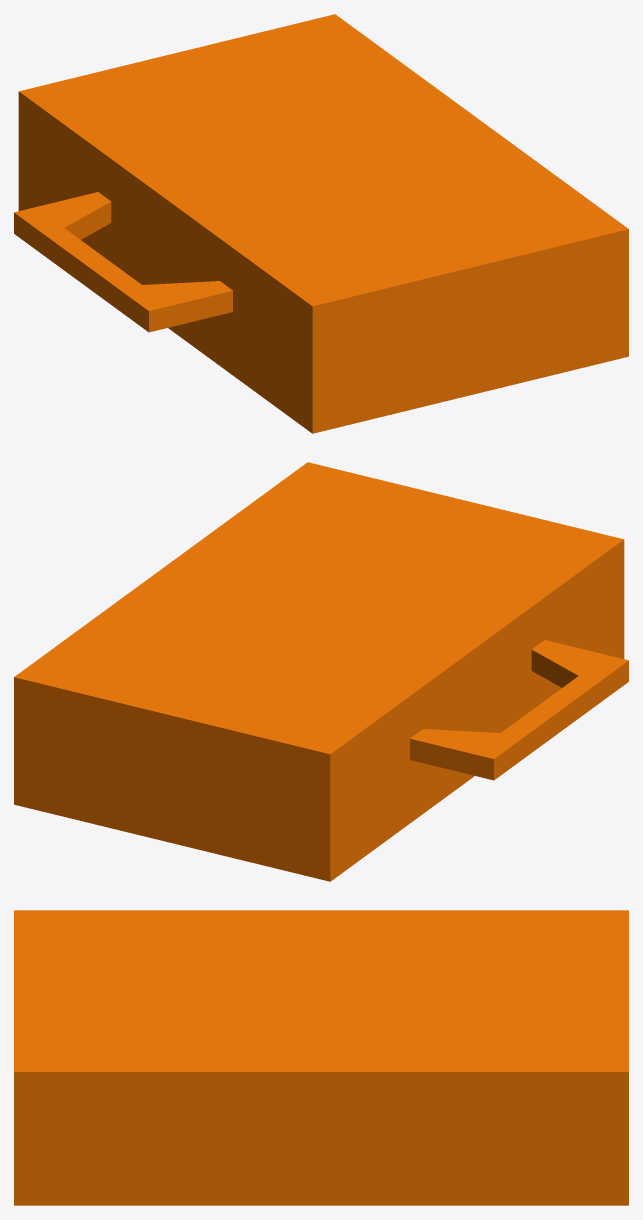
The model's file is LuggageD.fbx.
The picture shows the model from 3 angles, top to bottom: view 1: azimuth 30°, elevation 25°; view 2: azimuth 150°, elevation 25°; view 3: azimuth 270°, elevation 25°; orthographic projection. The views are drawn at different scales.
Visible parts, largest first — view 1: LuggageDTop, LuggageD; view 2: LuggageDTop, LuggageD; view 3: LuggageDTop, LuggageD.
Part boxes in pixels (x1,y1,x2,y2): LuggageDTop: (14,14,628,369); LuggageD: (18,155,628,433); LuggageDTop: (14,462,628,817); LuggageD: (14,603,624,881); LuggageDTop: (14,910,628,1138); LuggageD: (14,1138,628,1205).
Size of the model in its own units: 25.51 by 7.75 by 32.39.
1 material, 1 textured.
